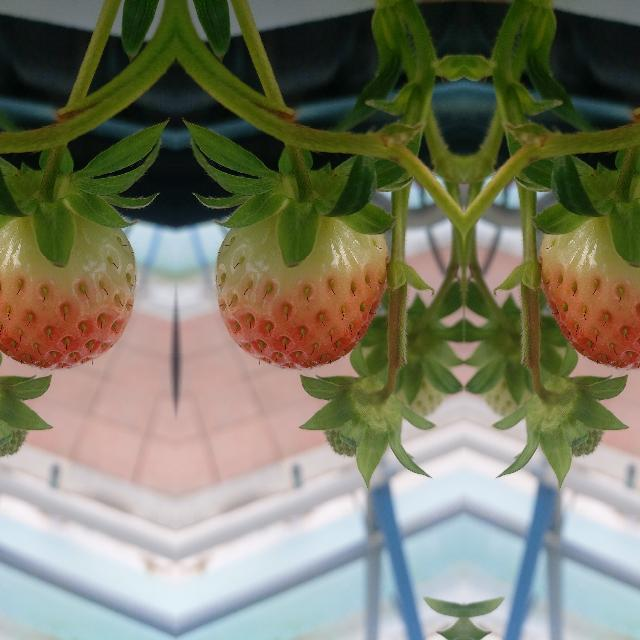Health_75: (215, 212, 387, 368), (0, 211, 135, 368), (539, 211, 640, 368)
